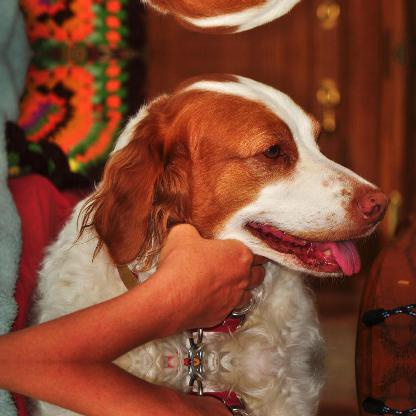Dog: (27, 71, 391, 361)
